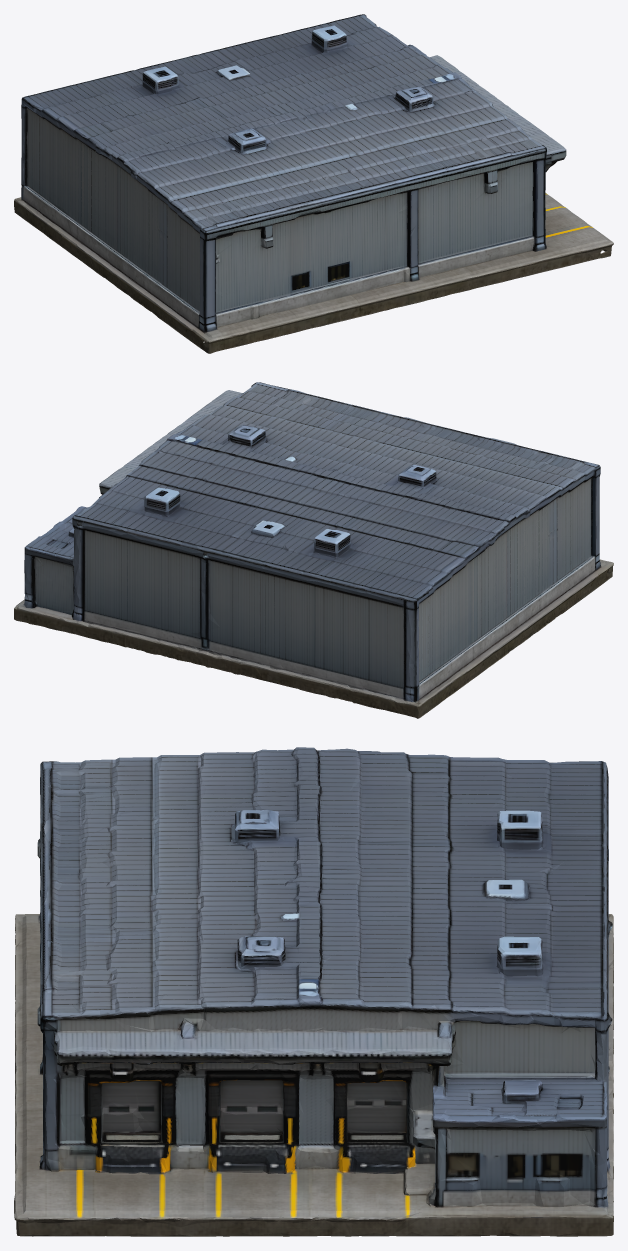
Rendered from gq_warehouse_pilot_v1_20261112_LowPoly_Textured_00001_.glb.
3 renders of one model, top to bottom at view 1: azimuth 30°, elevation 25°; view 2: azimuth 150°, elevation 25°; view 3: azimuth 270°, elevation 25°, orthographic. The views are drawn at different scales.
Visible parts, largest first — view 1: geometry_0; view 2: geometry_0; view 3: geometry_0.
Part boxes in pixels (x1,y1,x2,y2): geometry_0: [14, 14, 613, 353]; geometry_0: [14, 382, 613, 718]; geometry_0: [14, 747, 613, 1236].
Size of the model in its own units: 1 by 0.3186 by 0.8331.
Materials: 1 (1 with a texture image).
